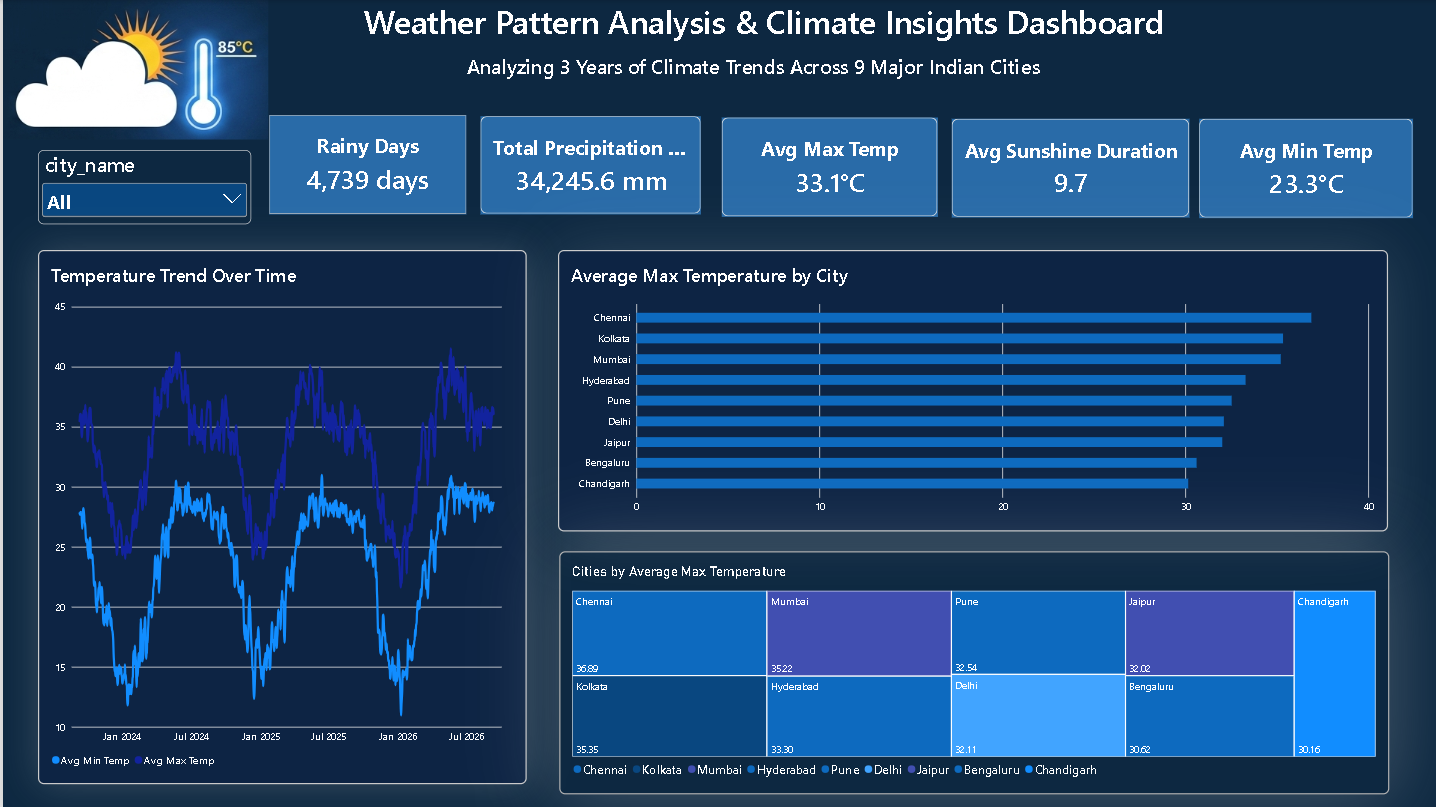

What the dashboard file says about the page in this screenshot:
{"tool":"powerbi","page":{"name":"Overview ","canvas":[1920,1080],"ordinal":0},"visuals":[{"type":"cardVisual","fields":{"Data":["public fact_weather.Avg Max Temp"]},"box":[960.2,157.5,289,132.5],"z":0},{"type":"cardVisual","fields":{"Data":["public fact_weather.Avg Min Temp"]},"box":[1597.8,159.4,285.3,132.5],"z":1},{"type":"cardVisual","fields":{"Data":["public fact_weather.Total Precipitation Display"]},"box":[637.6,155.6,294.1,130.9],"z":2},{"type":"cardVisual","fields":{"Data":["public fact_weather.Avg Sunshine Duration"]},"box":[1267.6,159.4,317.8,131.8],"z":3},{"type":"cardVisual","fields":{"Data":["public fact_weather.Rainy Days Display"]},"box":[354.9,153.7,263.2,132.5],"z":4},{"type":"slicer","fields":{"Values":["public dim_city.city_name"]},"box":[46,200.6,284.9,98.8],"z":5},{"type":"image","box":[0,0,354.6,186],"z":7},{"type":"textbox","box":[408.6,0,1214.7,69.9],"z":8},{"type":"textbox","box":[601.8,69.9,802.5,62.6],"z":9},{"type":"lineChart","title":"Temperature Trend Over Time","fields":{"Category":["public dim_date.full_date"],"Y":["public fact_weather.Avg Min Temp","public fact_weather.Avg Max Temp"]},"box":[46.1,333.9,653,713.9],"z":10},{"type":"clusteredBarChart","title":"Average Max Temperature by City","fields":{"Category":["public dim_city.city_name"],"Y":["public fact_weather.Avg Max Temp"]},"box":[741.6,333.9,1108.7,376.3],"z":11},{"type":"treemap","title":"Cities by Average Max Temperature","fields":{"Group":["public dim_city.city_name"],"Values":["public fact_weather.Avg Max Temp"]},"box":[743.4,736.1,1108.7,324.7],"z":12}]}

Visuals, with their boxes in screenshot pixels (x1, y1, x2, y2), scaled from the page's 1920x1080 canvas onto the 1436x807 screenshot:
cardVisual - public fact_weather.Avg Max Temp: box=[718, 118, 934, 217]
cardVisual - public fact_weather.Avg Min Temp: box=[1195, 119, 1408, 218]
cardVisual - public fact_weather.Total Precipitation Display: box=[477, 116, 697, 214]
cardVisual - public fact_weather.Avg Sunshine Duration: box=[948, 119, 1186, 218]
cardVisual - public fact_weather.Rainy Days Display: box=[265, 115, 462, 214]
slicer - public dim_city.city_name: box=[34, 150, 247, 224]
image: box=[0, 0, 265, 139]
textbox: box=[306, 0, 1214, 52]
textbox: box=[450, 52, 1050, 99]
"Temperature Trend Over Time" lineChart: box=[34, 249, 523, 783]
"Average Max Temperature by City" clusteredBarChart: box=[555, 249, 1384, 531]
"Cities by Average Max Temperature" treemap: box=[556, 550, 1385, 793]
